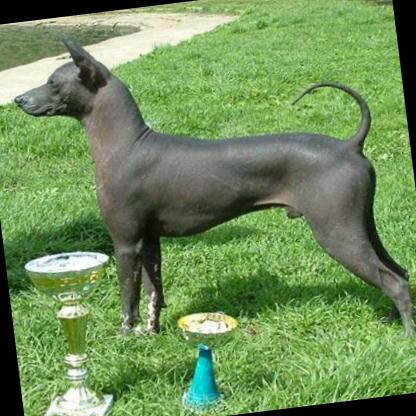Mexican_hairless: (2, 0, 416, 379)
